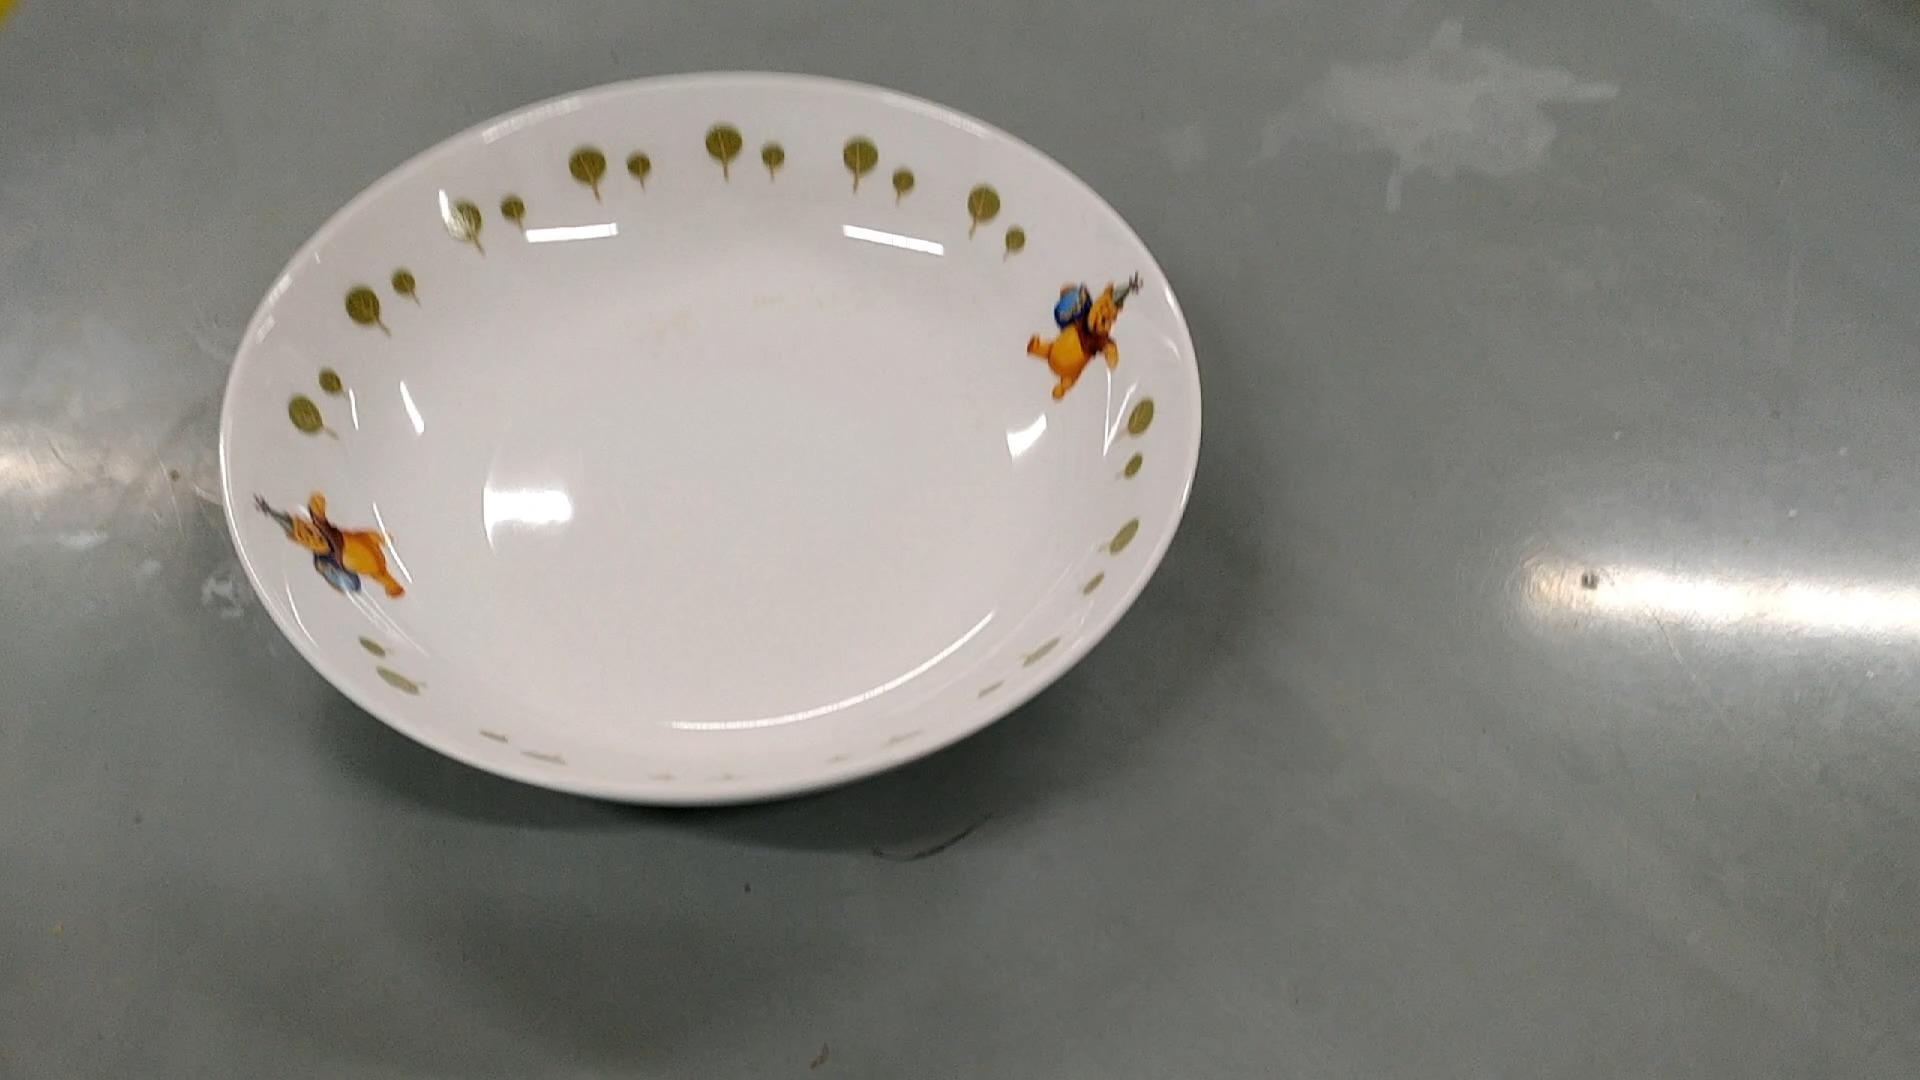plate: (223, 73, 1203, 802)
